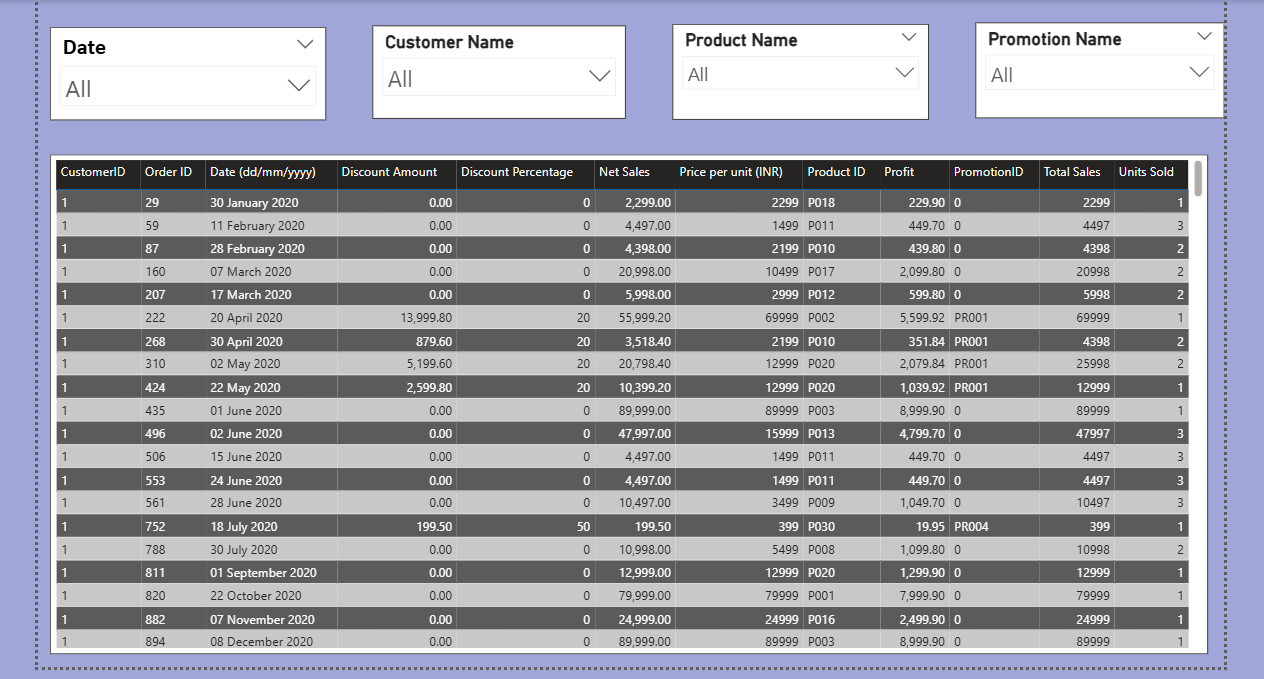

This screenshot's page, from the dashboard's own definition file:
{"tool":"powerbi","page":{"name":"TABLE VISUAL","canvas":[1280,720],"ordinal":4},"visuals":[{"type":"tableEx","fields":{"Values":["FACT TABLE.CustomerID","FACT TABLE.Order ID","FACT TABLE.Date (dd/mm/yyyy)","FACT TABLE.Discount Amount","FACT TABLE.Discount Percentage","FACT TABLE.Net Sales","FACT TABLE.Price per unit (INR)","FACT TABLE.Product ID","FACT TABLE.Profit","FACT TABLE.PromotionID","FACT TABLE.Total Sales","FACT TABLE.Units Sold"]},"box":[13,166.8,1250,539.2],"z":0},{"type":"slicer","fields":{"Values":["DATE TABLE 1.Date"]},"box":[13,28.6,297.9,100.4],"z":1000},{"type":"slicer","fields":{"Values":["Dim Customers.Customer Name"]},"box":[361.1,27.5,273.6,100.4],"z":2000},{"type":"slicer","fields":{"Values":["Dim Product.Product Name"]},"box":[684.9,26.4,276.9,103.6],"z":3000},{"type":"slicer","fields":{"Values":["Dim Promotion.Promotion Name"]},"box":[1011.2,24.3,268.8,103.6],"z":4000}]}

Visuals, with their boxes on the page's 1280x720 design canvas (x1, y1, x2, y2). These are canvas units, not pixel positions in the 1264x679 screenshot, which may show the page scaled, cropped or inside an application window:
tableEx - FACT TABLE.CustomerID x FACT TABLE.Order ID: [13, 167, 1263, 706]
slicer - DATE TABLE 1.Date: [13, 29, 311, 129]
slicer - Dim Customers.Customer Name: [361, 28, 635, 128]
slicer - Dim Product.Product Name: [685, 26, 962, 130]
slicer - Dim Promotion.Promotion Name: [1011, 24, 1280, 128]
